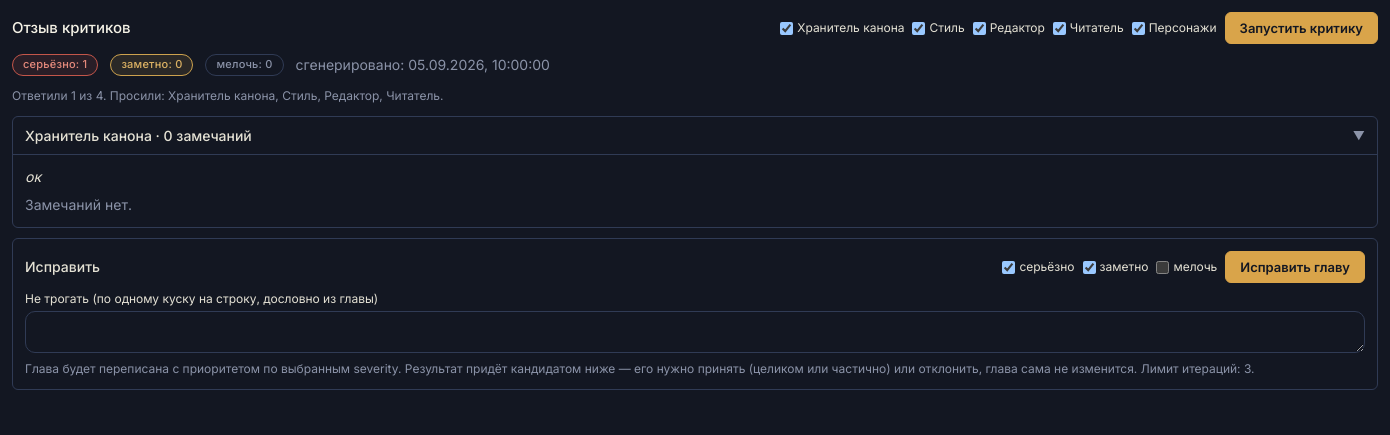
Test case: CritiquePanel — остановка правки › идущую правку можно остановить по кнопке
The width and height of the screenshot is (1390, 435).
Click the button "Исправить главу" at (1295, 267), box [1225,251,1365,283]
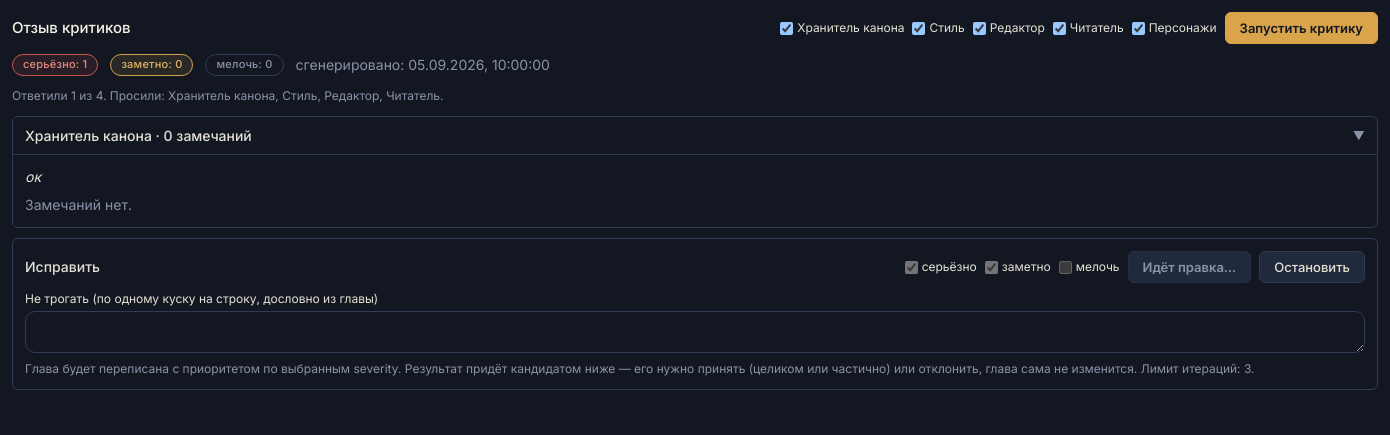
Click the button "Остановить" at (1312, 267), box [1259,251,1365,283]
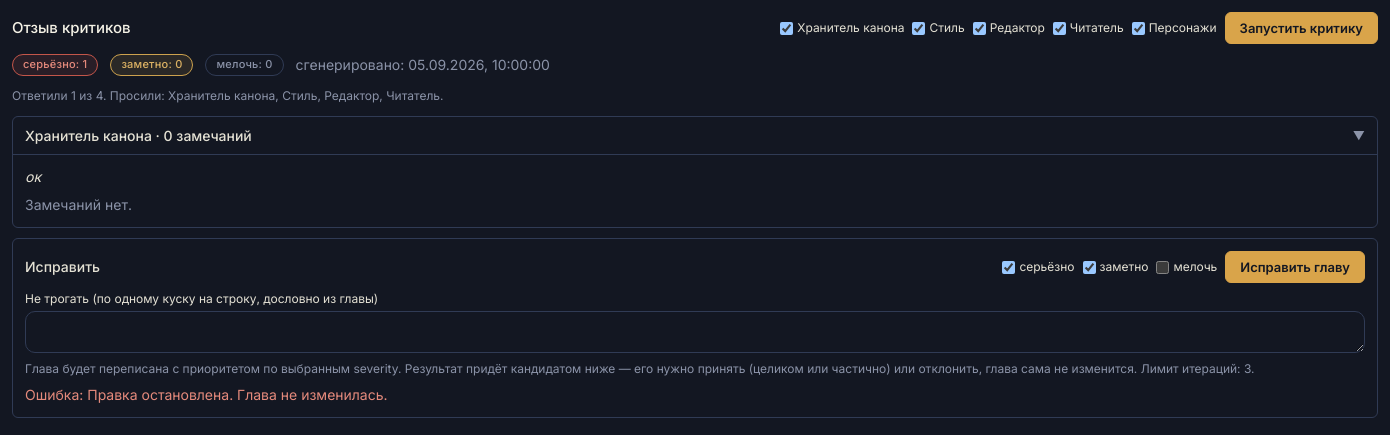
Check: the text "Ошибка: Правка остановлена. Глава не изменилась." is shown, box [25,386,388,403]
